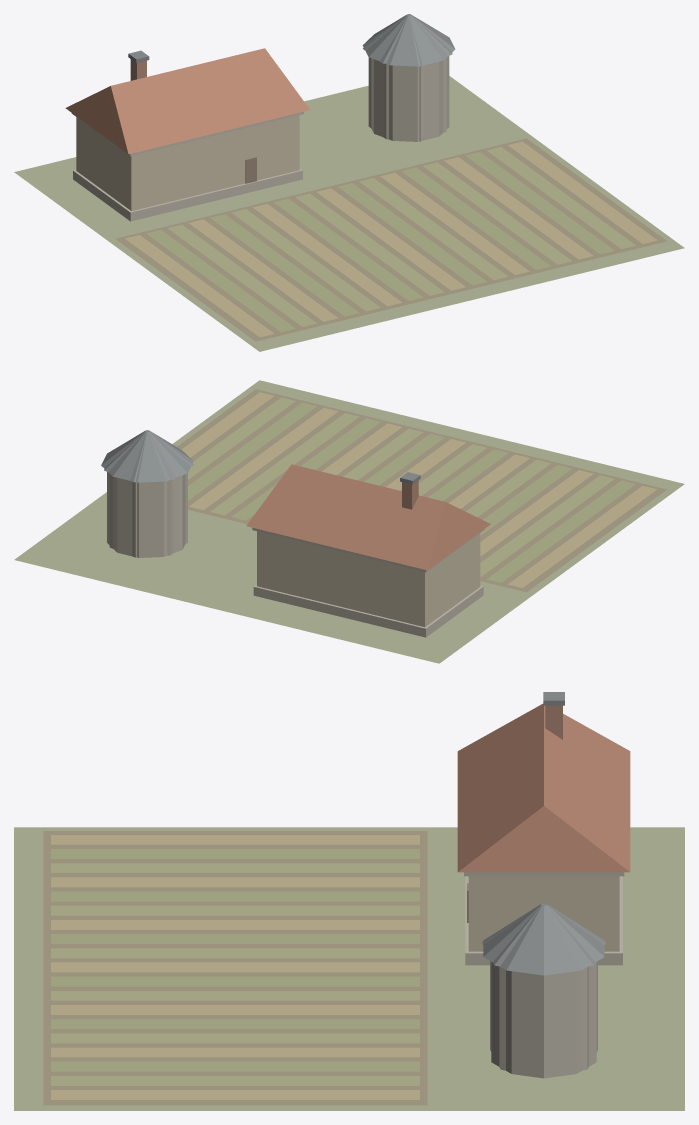
3 renders of one model, top to bottom at view 1: azimuth 30°, elevation 25°; view 2: azimuth 150°, elevation 25°; view 3: azimuth 270°, elevation 25°, orthographic. The views are drawn at different scales.
Visible parts, largest first — view 1: Near, Mid; view 2: Near, Mid; view 3: Near, Mid.
Boxes of the visible parts, bbox=[...] form: Near: bbox=[14, 14, 684, 351]; Mid: bbox=[363, 15, 452, 141]; Near: bbox=[14, 380, 684, 663]; Mid: bbox=[104, 430, 193, 557]; Near: bbox=[14, 692, 684, 1110]; Mid: bbox=[482, 903, 605, 1070].
Bounding box in the file's own units: 4 × 1.2 × 4.
